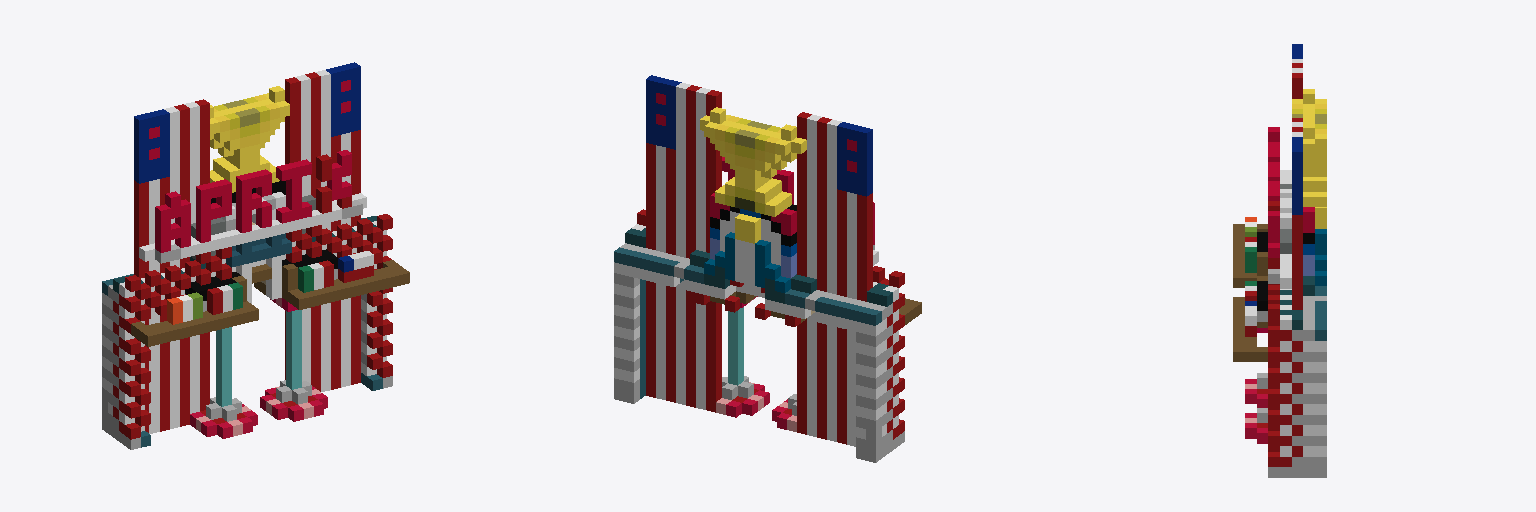
3 views of the same model, side by side, from view 1: azimuth 30°, elevation 25°; view 2: azimuth 150°, elevation 25°; view 3: azimuth 270°, elevation 25° (orthographic).
Bounding box in the file's own units: 26 × 30 × 8.
1 materials, 1 textured.